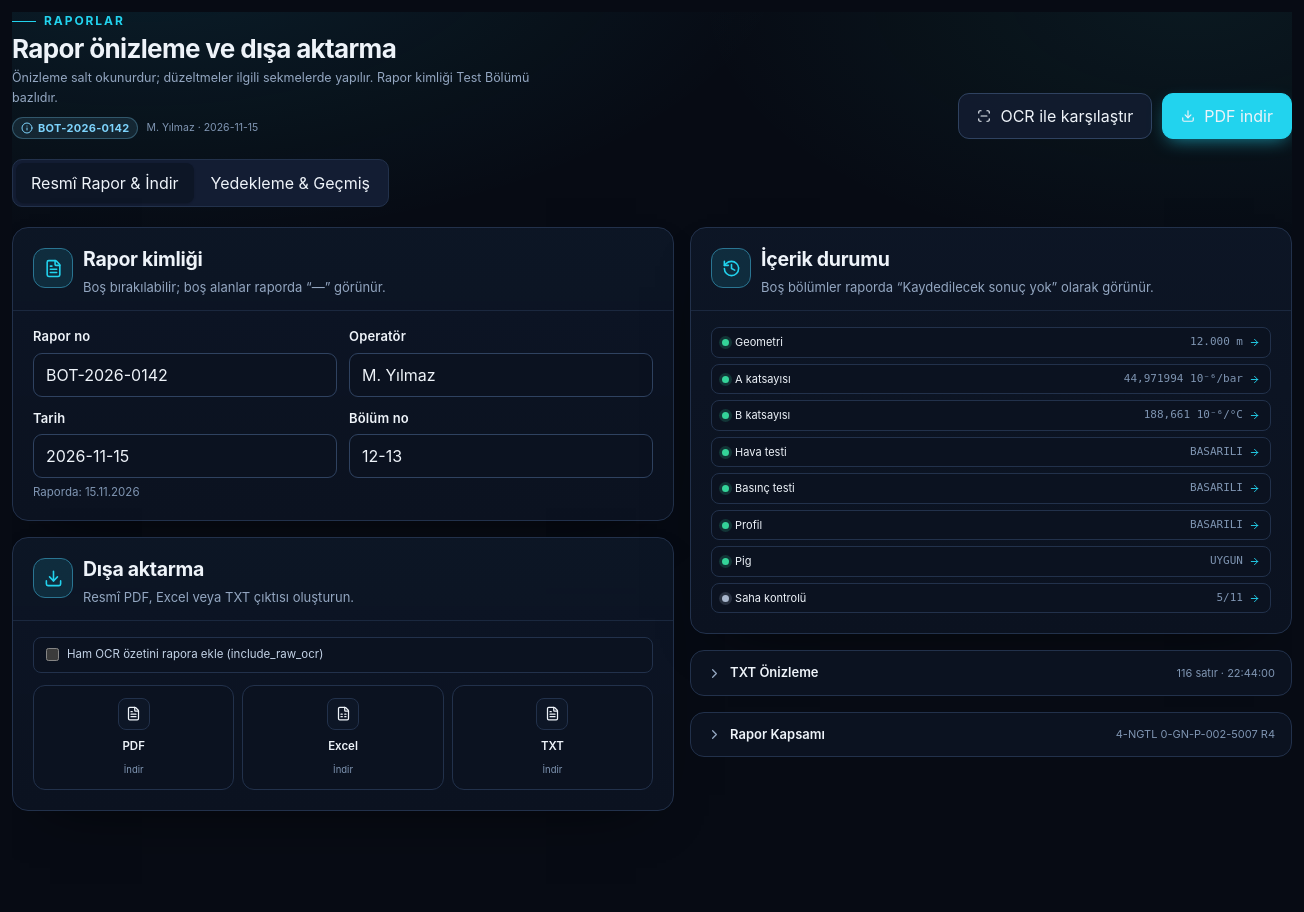
Test: ReportsPage include_raw_ocr export option (F2, F14) › passes include_raw_ocr=true when the OCR appendix checkbox is checked
Later steps or results of the test are not shown.
Click the checkbox labelled "Ham OCR özetini rapora ekle (include_raw_ocr)".
click(52, 655)  # box [46, 648, 59, 662]
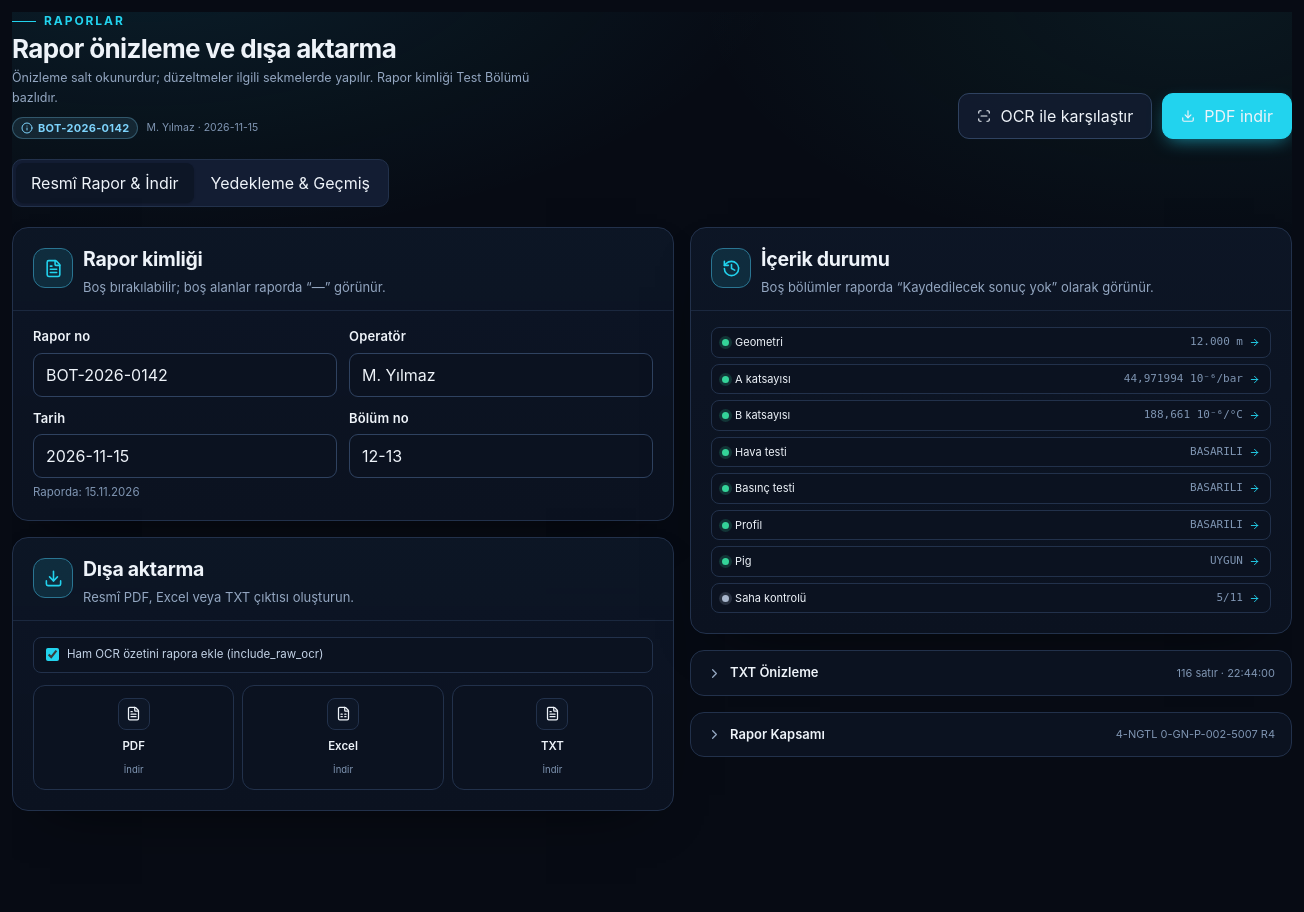
Now the checkbox labelled "Ham OCR özetini rapora ekle (include_raw_ocr)" is checked, box [46, 648, 59, 662]
